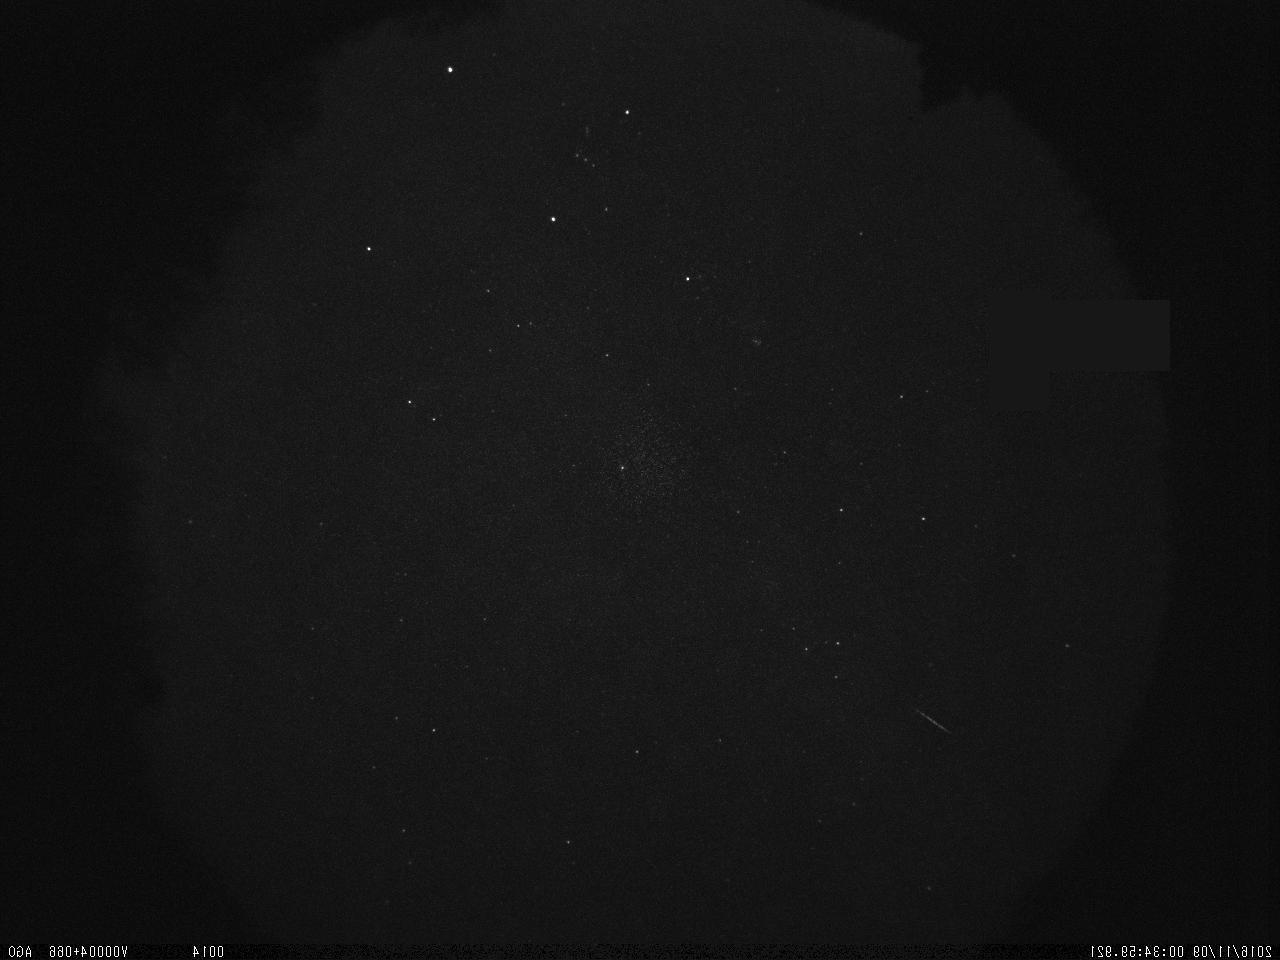meteor: (907, 703, 959, 746)
